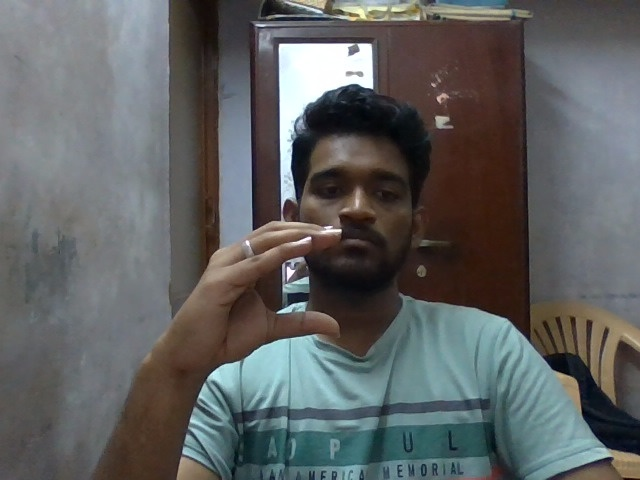C: (133, 216, 346, 378)
